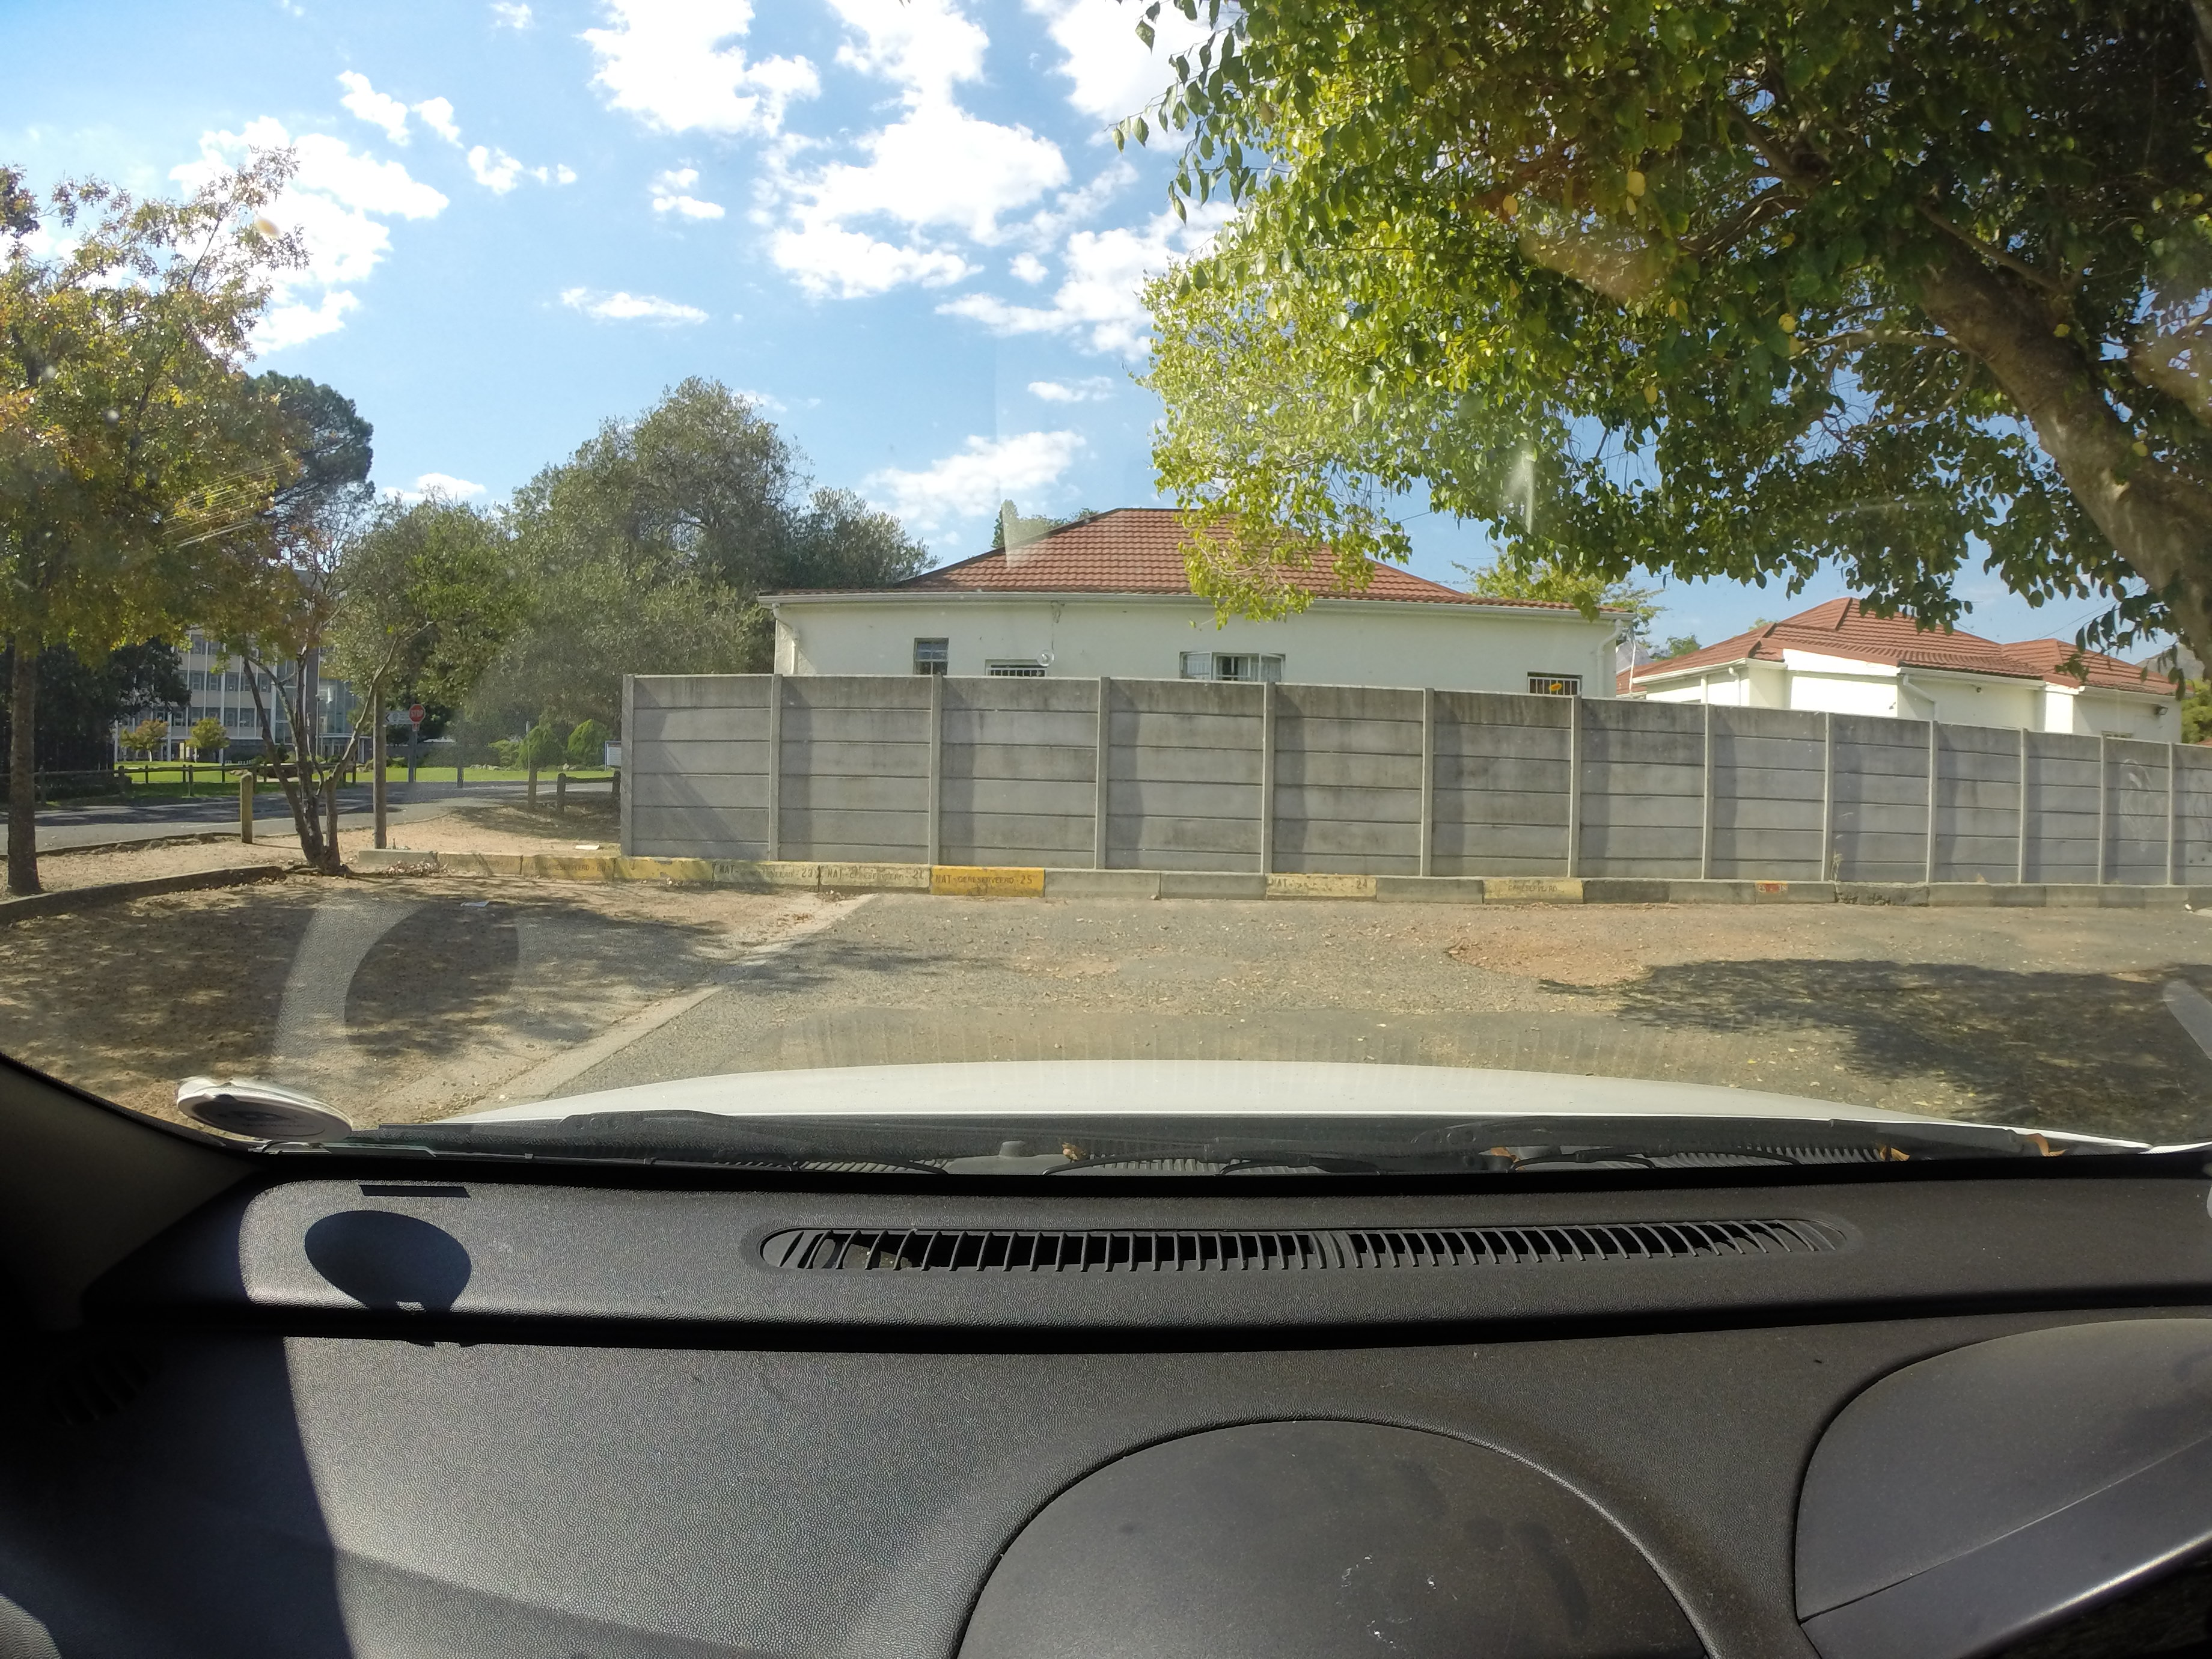pothole: (1426, 936, 1667, 993)
